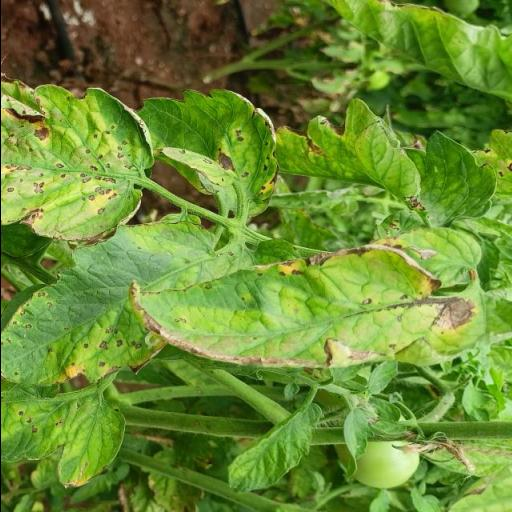disease_tomato: (126, 242, 486, 370), (0, 220, 217, 390), (0, 76, 154, 248), (136, 77, 284, 224)
